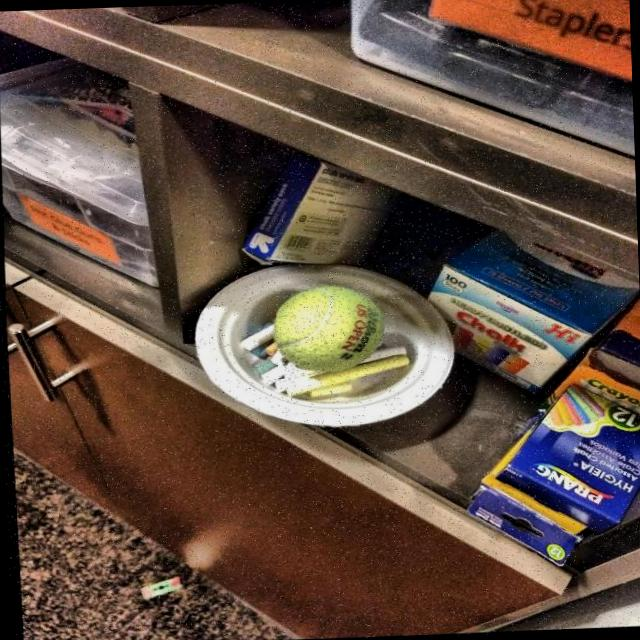Tennis Ball: (273, 282, 400, 385)
